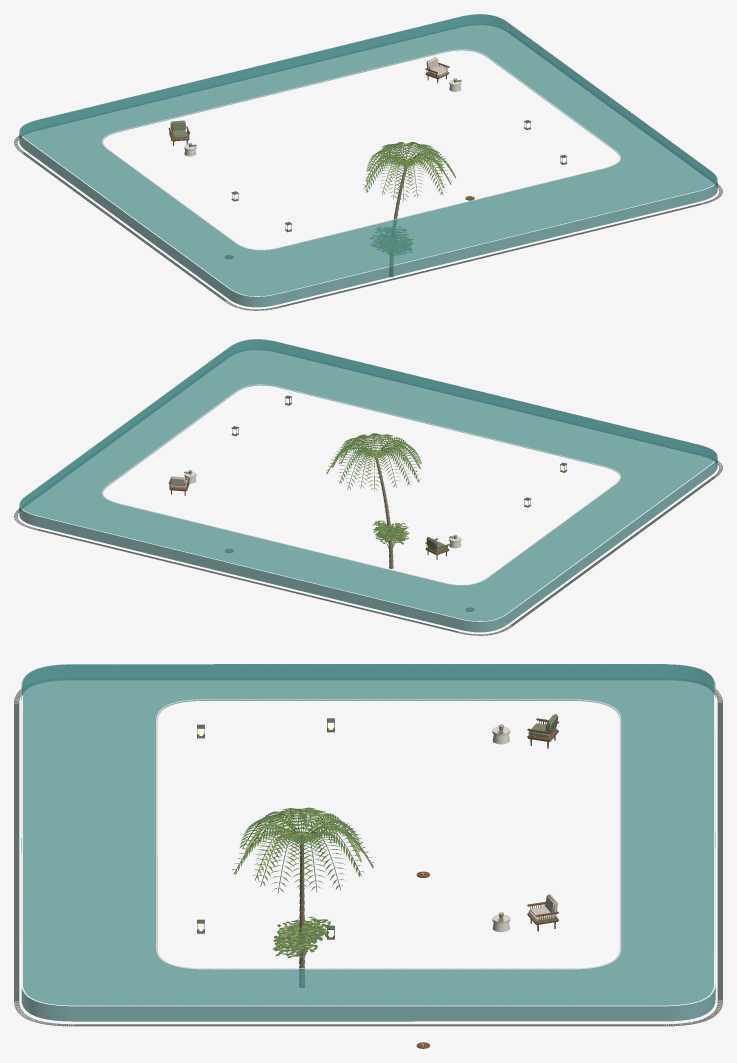
File: m-reference-refinement-v49.glb
3 renders of one model, top to bottom at view 1: azimuth 30°, elevation 25°; view 2: azimuth 150°, elevation 25°; view 3: azimuth 270°, elevation 25°, orthographic. The views are drawn at different scales.
Parts seen in each view (by area): view 1: M49_Crown_Surface_Water, M49_Crown_Overflow_Water, M49_PalmPrototype_Leaf, M49_Crown_DrainAndCoping_Bronze, M49_Crown_DrainAndCoping_Stone, M49_PalmPrototype_LeafLight, M49_Crown_DrainAndCoping_Foam, M49_TreePrototype_Leaf; view 2: M49_Crown_Surface_Water, M49_Crown_Overflow_Water, M49_PalmPrototype_Leaf, M49_Crown_DrainAndCoping_Bronze, M49_Crown_DrainAndCoping_Stone, M49_PalmPrototype_LeafLight, M49_Crown_DrainAndCoping_Foam, M49_TreePrototype_Leaf; view 3: M49_Crown_Surface_Water, M49_Crown_Overflow_Water, M49_Crown_DrainAndCoping_Bronze, M49_PalmPrototype_Leaf, M49_Crown_DrainAndCoping_Stone, M49_PalmPrototype_LeafLight, M49_TreePrototype_Leaf, M49_Crown_DrainAndCoping_Foam, M49_PalmPrototype_Bark.
Part boxes in pixels (x1,y1,x2,y2): M49_Crown_Surface_Water: (20,14,716,296); M49_Crown_Overflow_Water: (19,14,717,307); M49_PalmPrototype_Leaf: (363,142,455,201); M49_Crown_DrainAndCoping_Bronze: (14,25,722,310); M49_Crown_DrainAndCoping_Stone: (14,49,722,310); M49_PalmPrototype_LeafLight: (366,144,445,197); M49_Crown_DrainAndCoping_Foam: (19,14,717,296); M49_TreePrototype_Leaf: (371,226,413,255); M49_Crown_Surface_Water: (20,339,716,621); M49_Crown_Overflow_Water: (19,339,717,632); M49_PalmPrototype_Leaf: (326,433,421,491); M49_Crown_DrainAndCoping_Bronze: (14,350,722,635); M49_Crown_DrainAndCoping_Stone: (14,384,722,635); M49_PalmPrototype_LeafLight: (338,435,416,488); M49_Crown_DrainAndCoping_Foam: (19,339,717,621); M49_TreePrototype_Leaf: (372,520,409,544); M49_Crown_Surface_Water: (23,664,713,1005); M49_Crown_Overflow_Water: (21,664,715,1021); M49_Crown_DrainAndCoping_Bronze: (14,679,722,1026); M49_PalmPrototype_Leaf: (232,807,373,893); M49_Crown_DrainAndCoping_Stone: (14,688,722,1026); M49_PalmPrototype_LeafLight: (243,810,361,887); M49_TreePrototype_Leaf: (272,918,329,958); M49_Crown_DrainAndCoping_Foam: (21,664,715,1005); M49_PalmPrototype_Bark: (299,841,305,987).
Size of the model in its own units: 28.56 by 6.84 by 24.56.
Materials: 12 (4 with a texture image).
